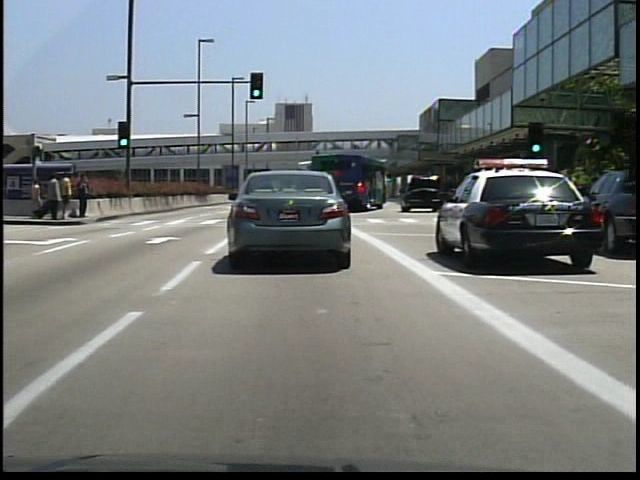person: (74, 172, 92, 221), (26, 176, 45, 220), (47, 172, 63, 222), (60, 171, 75, 222)
